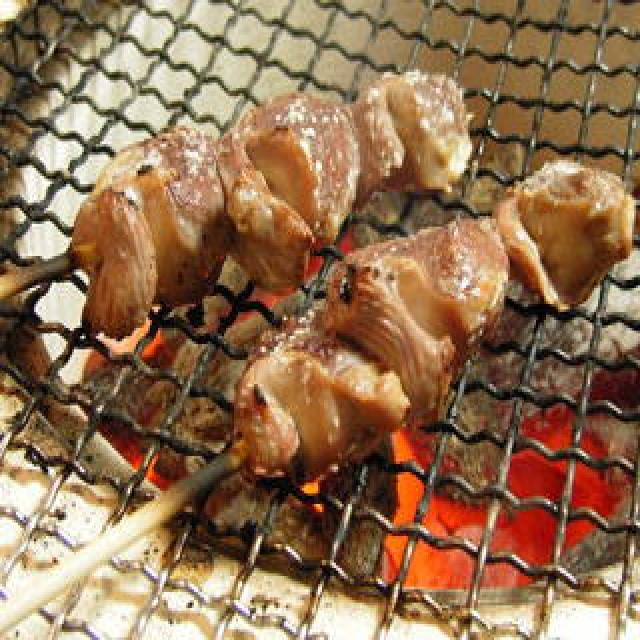烧串烤肉: (0, 58, 640, 640)
